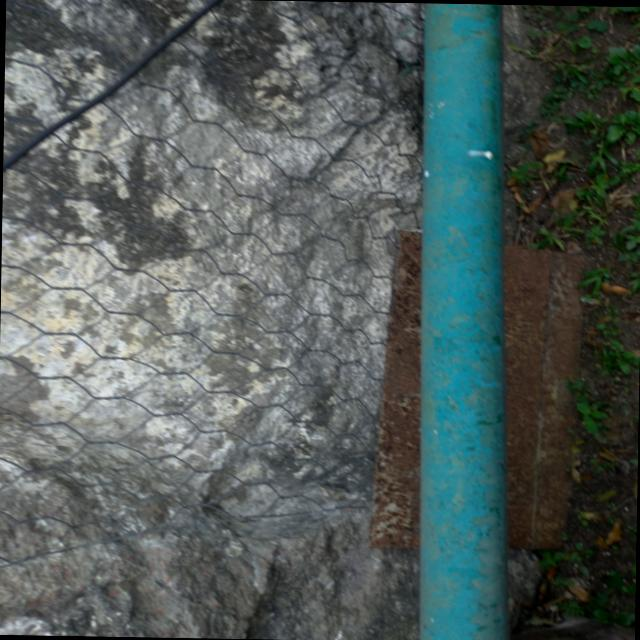gas: (408, 1, 523, 640)
